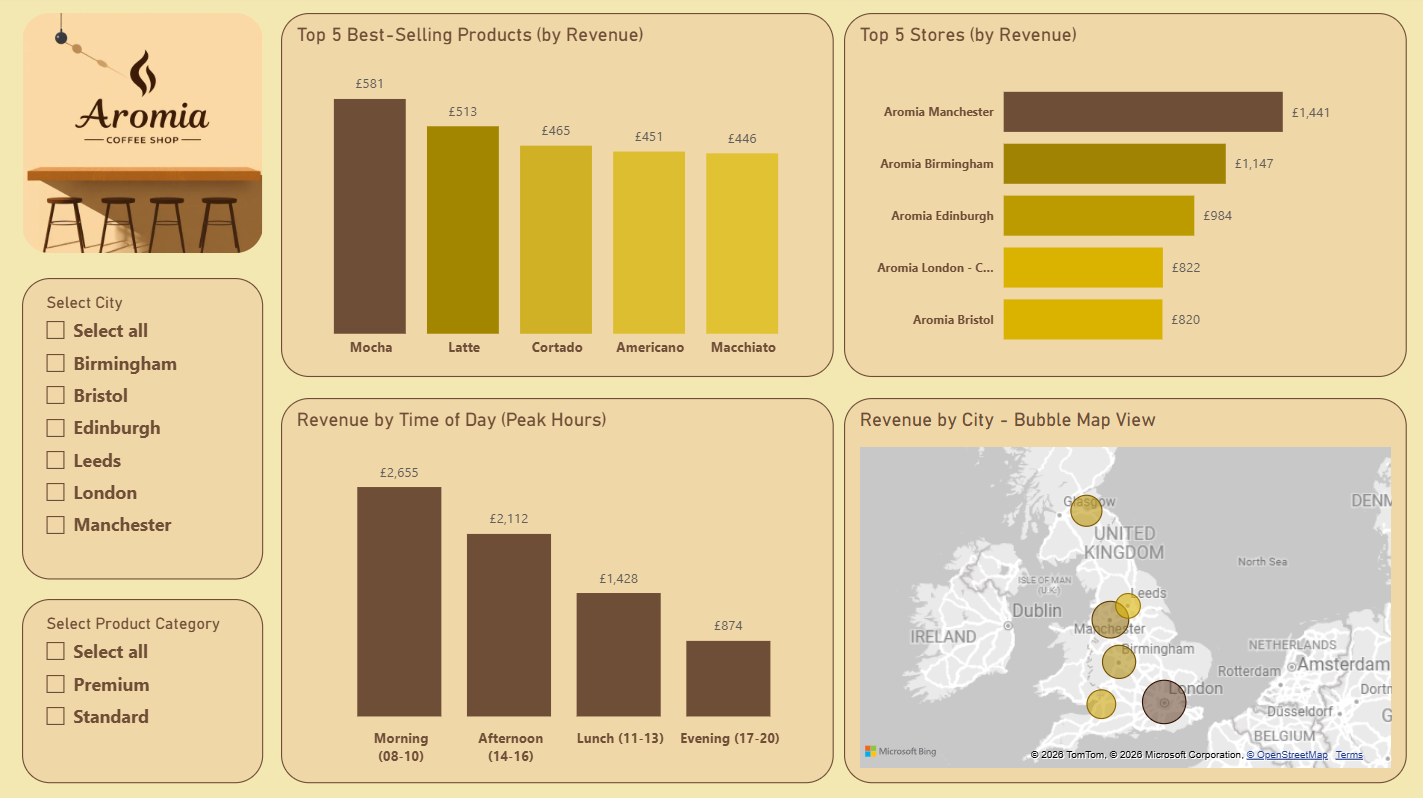

What the dashboard file says about the page in this screenshot:
{"tool":"powerbi","page":{"name":"Product and Location","canvas":[1280,720],"ordinal":1},"visuals":[{"type":"clusteredColumnChart","title":" Top 5 Best-Selling Products (by Revenue)","fields":{"Category":["products.product_name"],"Y":["Measures list.Total Revenue"]},"box":[255.4,15,494.8,326.2],"z":0},{"type":"columnChart","title":"Revenue by Time of Day (Peak Hours)","fields":{"Category":["orders.Time Bucket"],"Y":["Measures list.Total Revenue"]},"box":[255.4,360.2,494.8,345.2],"z":1000},{"type":"map","title":"Revenue by City - Bubble Map View","fields":{"Category":["stores.city"],"Size":["Measures list.Total Revenue"]},"box":[759.2,360.2,503.8,345.2],"z":2000},{"type":"slicer","fields":{"Values":["stores.city"]},"box":[23.3,252.5,215.8,269.6],"z":3000},{"type":"image","box":[23.2,15.1,215.7,214.7],"z":4000},{"type":"slicer","fields":{"Values":["products.Price Band"]},"box":[23.2,540.2,215.7,165.3],"z":5000},{"type":"clusteredBarChart","title":" Top 5 Stores (by Revenue)","fields":{"Category":["stores.store_name"],"Y":["Measures list.Total Revenue"]},"box":[759.2,15,503.8,326.2],"z":6000}]}

Visuals, with their boxes in screenshot pixels (x1, y1, x2, y2), scaled from the page's 1280x720 canvas onto the 1423x798 screenshot:
" Top 5 Best-Selling Products (by Revenue)" clusteredColumnChart: <region>284, 17, 834, 378</region>
"Revenue by Time of Day (Peak Hours)" columnChart: <region>284, 399, 834, 782</region>
"Revenue by City - Bubble Map View" map: <region>844, 399, 1404, 782</region>
slicer - stores.city: <region>26, 280, 266, 579</region>
image: <region>26, 17, 266, 255</region>
slicer - products.Price Band: <region>26, 599, 266, 782</region>
" Top 5 Stores (by Revenue)" clusteredBarChart: <region>844, 17, 1404, 378</region>
